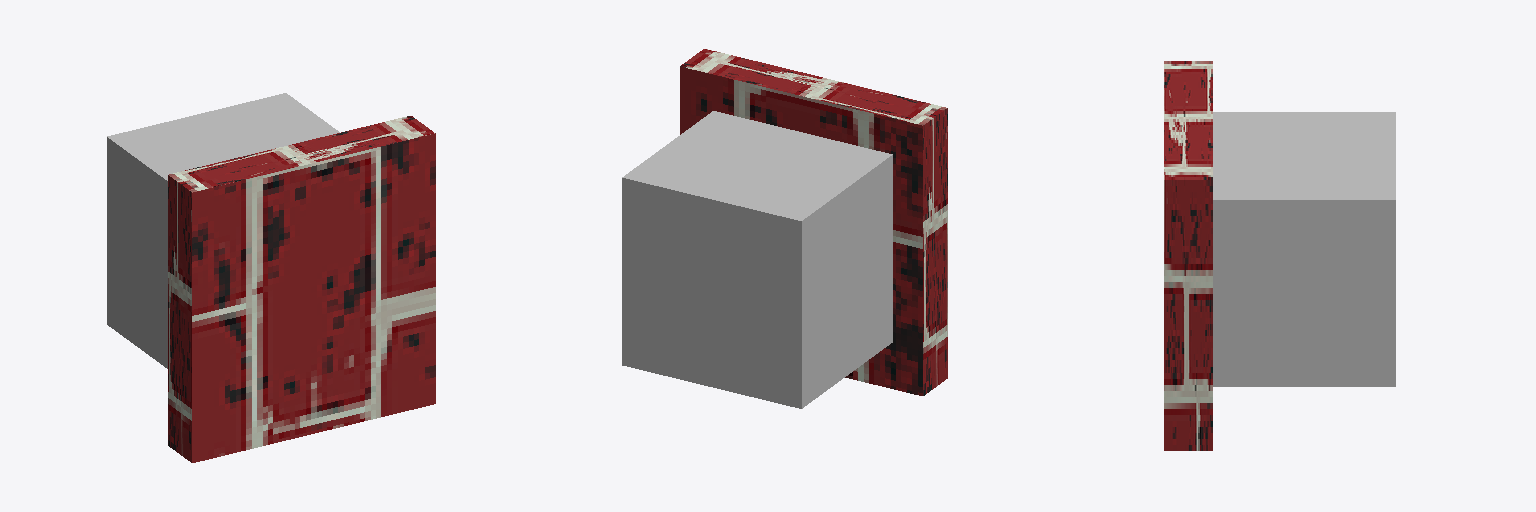
The picture shows the model from 3 angles: view 1: azimuth 30°, elevation 25°; view 2: azimuth 150°, elevation 25°; view 3: azimuth 270°, elevation 25°; orthographic projection.
Parts seen in each view (by area): view 1: Cube.002; view 2: Cube.002; view 3: Cube.002.
Boxes of the visible parts, x1=… form: Cube.002: x1=107, y1=93, x2=435, y2=462; Cube.002: x1=622, y1=49, x2=947, y2=408; Cube.002: x1=1164, y1=61, x2=1395, y2=450.
Bounding box in the file's own units: 2.71 × 2.88 × 2.24.
2 materials, 1 textured.